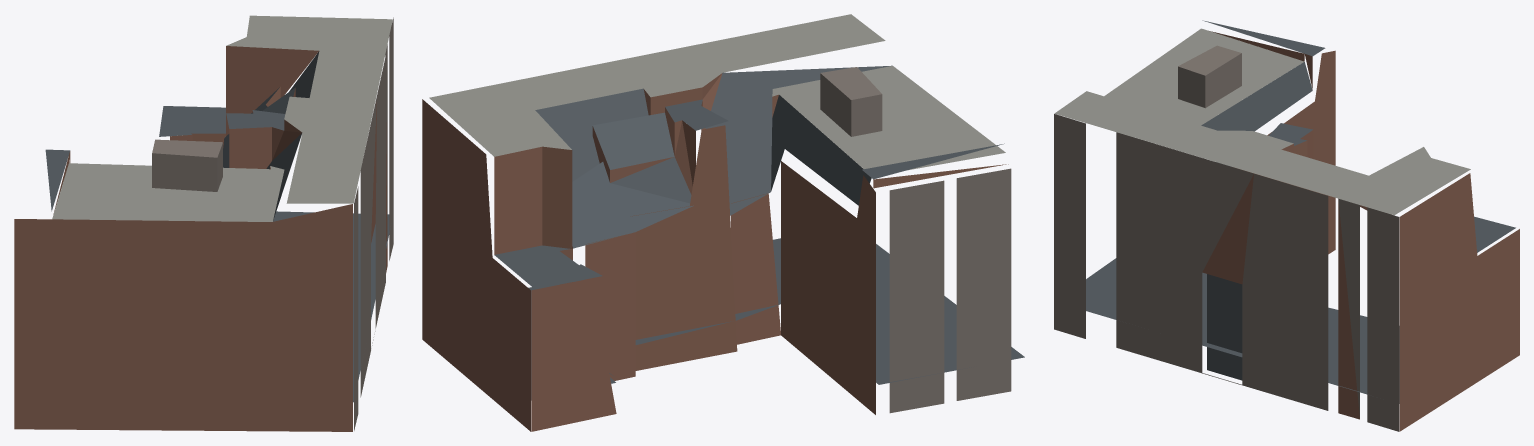
The picture shows the model from 3 angles, left to right: view 1: azimuth 30°, elevation 25°; view 2: azimuth 150°, elevation 25°; view 3: azimuth 270°, elevation 25°; orthographic projection. The views are drawn at different scales.
Parts seen in each view (by area): view 1: lod2; view 2: lod2; view 3: lod2.
Part boxes in pixels (x1=…): lod2: x1=14, y1=15, x2=393, y2=431; lod2: x1=422, y1=14, x2=1024, y2=431; lod2: x1=1054, y1=20, x2=1519, y2=431.
Size of the model in its own units: 39.78 by 19.52 by 35.76.
